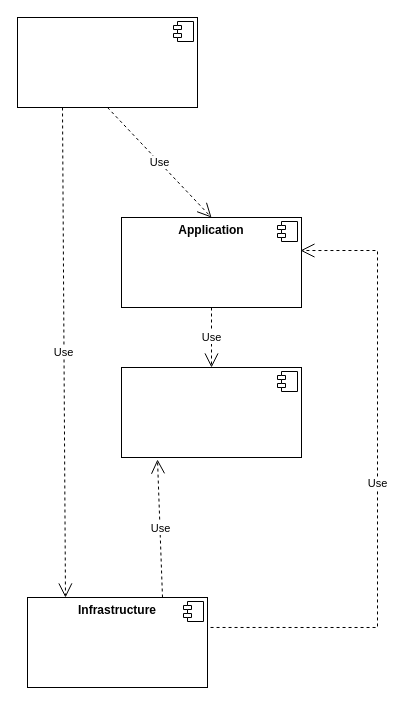
This 409x705 diagram has some shape labels left out. Here are the shapes that lost their labels. From the top down, the centre of each, then its label:
(107,62): Api
(211,412): Domaine
